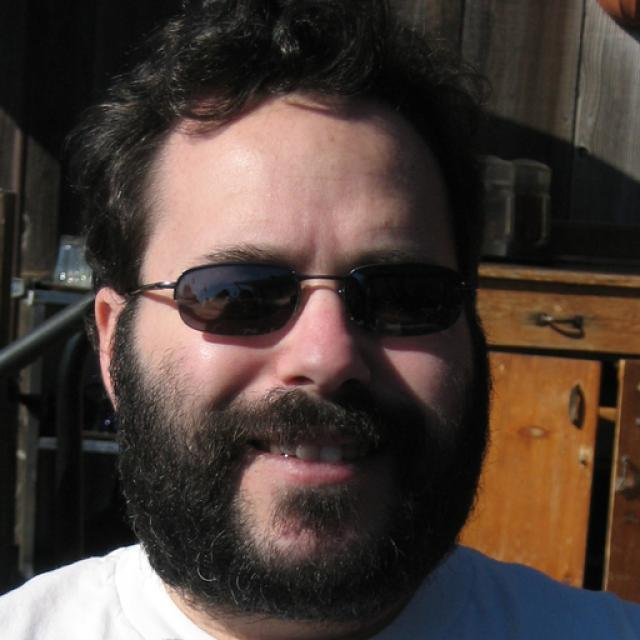happy: (120, 106, 476, 614)
